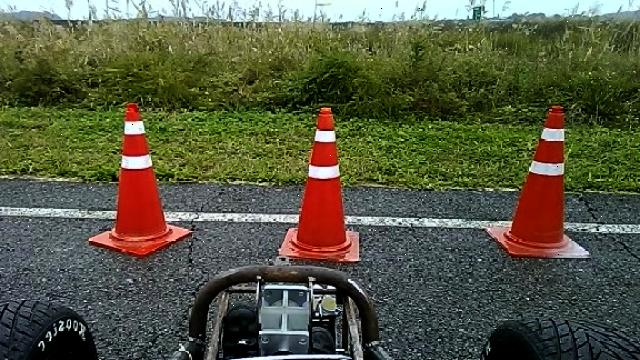red cone: (487, 103, 592, 259), (89, 102, 194, 257), (278, 106, 362, 262)
